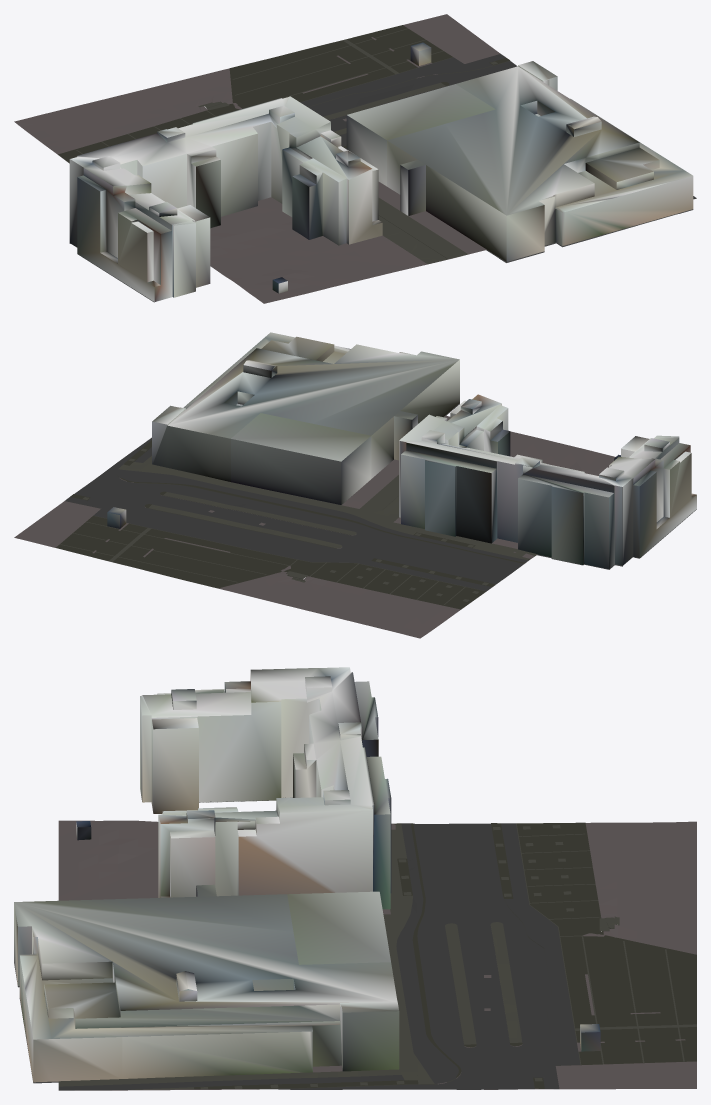
The picture shows the model from 3 angles, top to bottom: view 1: azimuth 30°, elevation 25°; view 2: azimuth 150°, elevation 25°; view 3: azimuth 270°, elevation 25°; orthographic projection. The views are drawn at different scales.
Parts seen in each view (by area): view 1: c_m17_p05; view 2: c_m17_p05; view 3: c_m17_p05.
Boxes of the visible parts, x1,y1,x2,y2 form: c_m17_p05: (14,14,696,303); c_m17_p05: (14,332,696,638); c_m17_p05: (14,667,696,1090).
Size of the model in its own units: 153 by 24.51 by 137.
